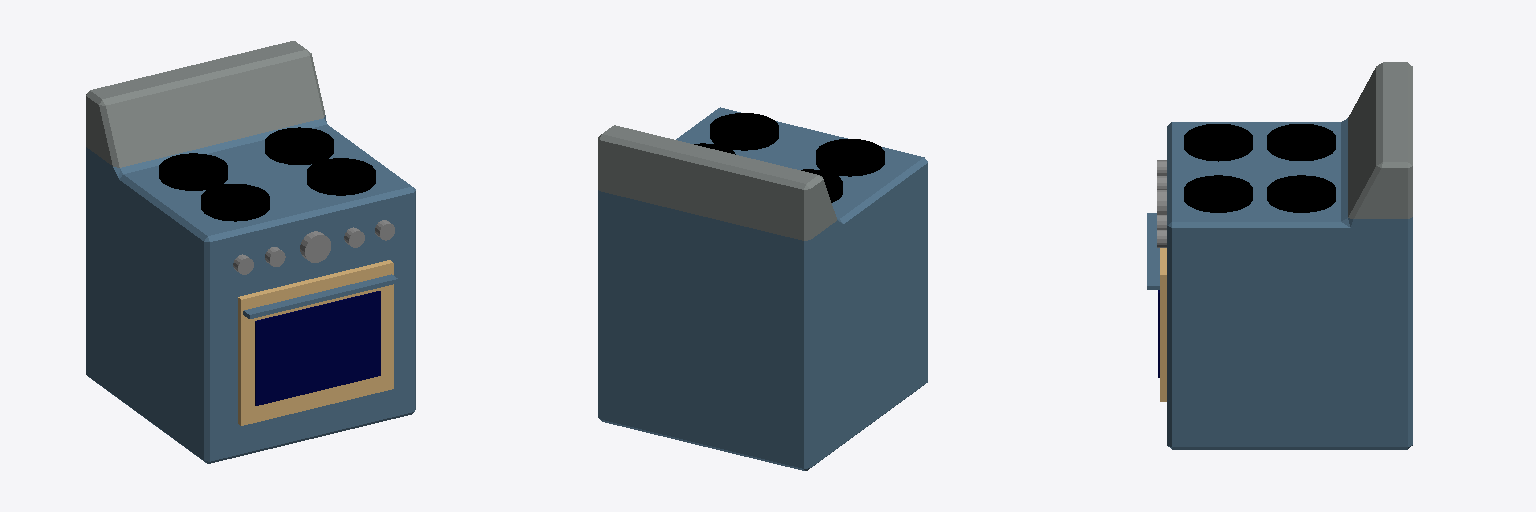
The picture shows the model from 3 angles: view 1: azimuth 30°, elevation 25°; view 2: azimuth 150°, elevation 25°; view 3: azimuth 270°, elevation 25°; orthographic projection.
Visible parts, largest first — view 1: Box001, Box004, Box002, Cylinder001, e004, e003, e2, Box003, Cylinder002; view 2: Box001, Cylinder001, e004; view 3: Box001, e2, Cylinder001, e003, e004, Box002, Box003.
Boxes of the visible parts, <box> form: Box001: <box>86,41,415,463</box>; Box004: <box>255,291,380,405</box>; Box002: <box>238,260,393,425</box>; Cylinder001: <box>307,158,375,195</box>; e004: <box>201,184,269,221</box>; e003: <box>159,153,227,190</box>; e2: <box>265,127,333,164</box>; Box003: <box>243,274,397,318</box>; Cylinder002: <box>300,231,330,262</box>; Box001: <box>598,107,927,470</box>; Cylinder001: <box>710,113,778,150</box>; e004: <box>816,139,884,176</box>; Box001: <box>1167,62,1412,449</box>; e2: <box>1267,175,1335,212</box>; Cylinder001: <box>1184,175,1252,212</box>; e003: <box>1267,124,1335,160</box>; e004: <box>1184,124,1252,161</box>; Box002: <box>1160,248,1166,401</box>; Box003: <box>1147,213,1159,289</box>.
Bounding box in the file's own units: 31.5 × 40.72 × 34.05.
6 materials, 5 textured.